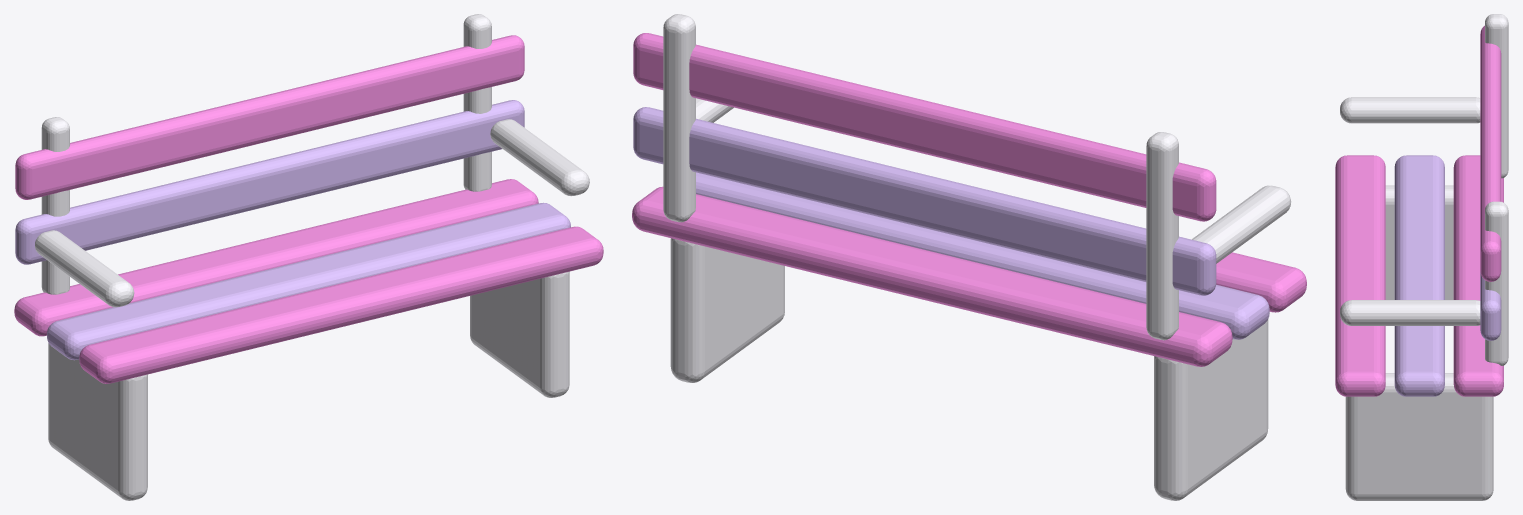
Rendered from bench.glb.
3 views of the same model, side by side, from view 1: azimuth 30°, elevation 25°; view 2: azimuth 150°, elevation 25°; view 3: azimuth 270°, elevation 25° (orthographic). The views are drawn at different scales.
Visible parts, largest first — view 1: back_1, seat_0, back_0, seat_1, seat_2, leg_-0.75, leg_0.75, arm_0.75, arm_-0.75, backpost_0.75, backpost_-0.75; view 2: back_1, back_0, seat_2, leg_-0.75, seat_1, leg_0.75, backpost_0.75, backpost_-0.75, seat_0, arm_-0.75; view 3: leg_0.75, seat_0, seat_1, seat_2, back_1, arm_-0.75, arm_0.75, backpost_0.75, leg_-0.75, backpost_-0.75, back_0.
Part boxes in pixels (box(x1,y1,x2,y2)): back_1: box(15, 35, 524, 199); seat_0: box(79, 226, 603, 383); back_0: box(15, 100, 524, 264); seat_1: box(47, 202, 570, 360); seat_2: box(14, 179, 538, 336); leg_-0.75: box(48, 343, 147, 500); leg_0.75: box(470, 271, 569, 397); arm_0.75: box(490, 119, 589, 196); arm_-0.75: box(35, 230, 134, 307); backpost_0.75: box(463, 14, 491, 191); backpost_-0.75: box(41, 117, 69, 294); back_1: box(633, 33, 1216, 221); back_0: box(633, 107, 1216, 295); seat_2: box(632, 186, 1232, 366); leg_-0.75: box(1154, 319, 1268, 500); seat_1: box(696, 172, 1269, 339); leg_0.75: box(670, 238, 784, 382); backpost_0.75: box(663, 14, 695, 222); backpost_-0.75: box(1146, 132, 1178, 340); seat_0: box(1216, 252, 1306, 312); arm_-0.75: box(1192, 185, 1291, 263); leg_0.75: box(1345, 373, 1493, 500); seat_0: box(1335, 155, 1385, 396); seat_1: box(1394, 155, 1444, 396); seat_2: box(1453, 155, 1503, 396); back_1: box(1480, 25, 1501, 281); arm_-0.75: box(1340, 97, 1480, 123); arm_0.75: box(1340, 300, 1480, 325); backpost_0.75: box(1485, 201, 1508, 365); leg_-0.75: box(1385, 185, 1453, 299); backpost_-0.75: box(1485, 14, 1508, 178); back_0: box(1480, 272, 1501, 340).
Bounding box in the file's own units: 1.8 × 1.1 × 0.585.
